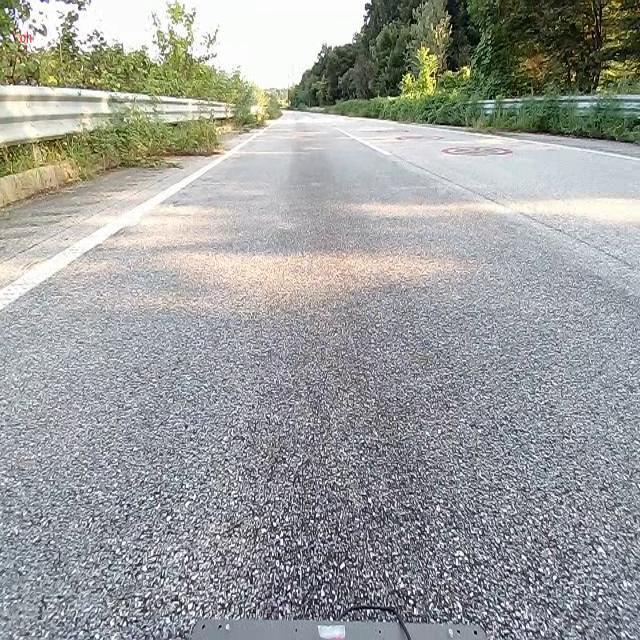Lane: (323, 120, 640, 303), (331, 127, 639, 296), (0, 123, 267, 315), (0, 131, 261, 311)
